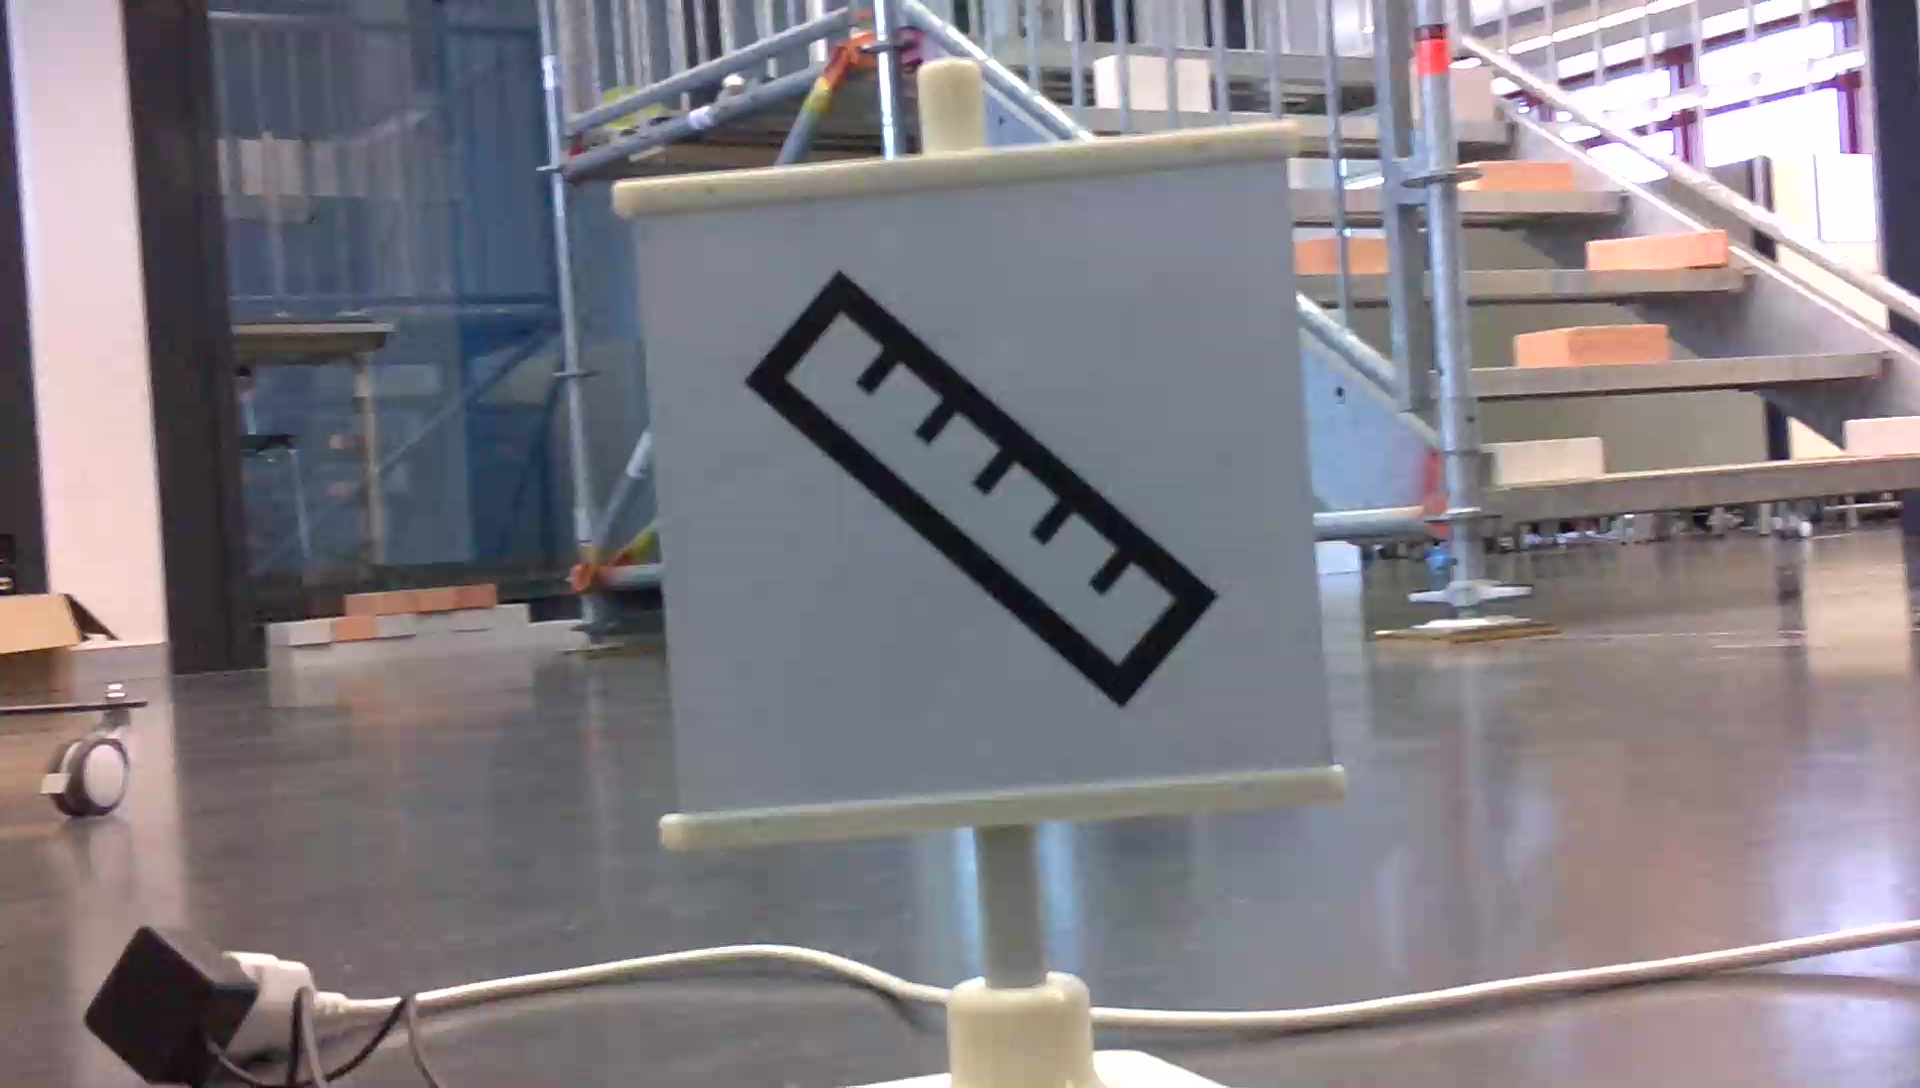brick: (1510, 317, 1673, 364), (1480, 427, 1604, 488), (1585, 223, 1731, 272), (1088, 55, 1208, 106), (1460, 142, 1571, 193), (1408, 66, 1499, 111)
edge: (1487, 451, 1920, 535), (1423, 334, 1883, 404), (1311, 258, 1729, 306), (1274, 187, 1625, 218)
ruler: (744, 244, 1220, 723)
